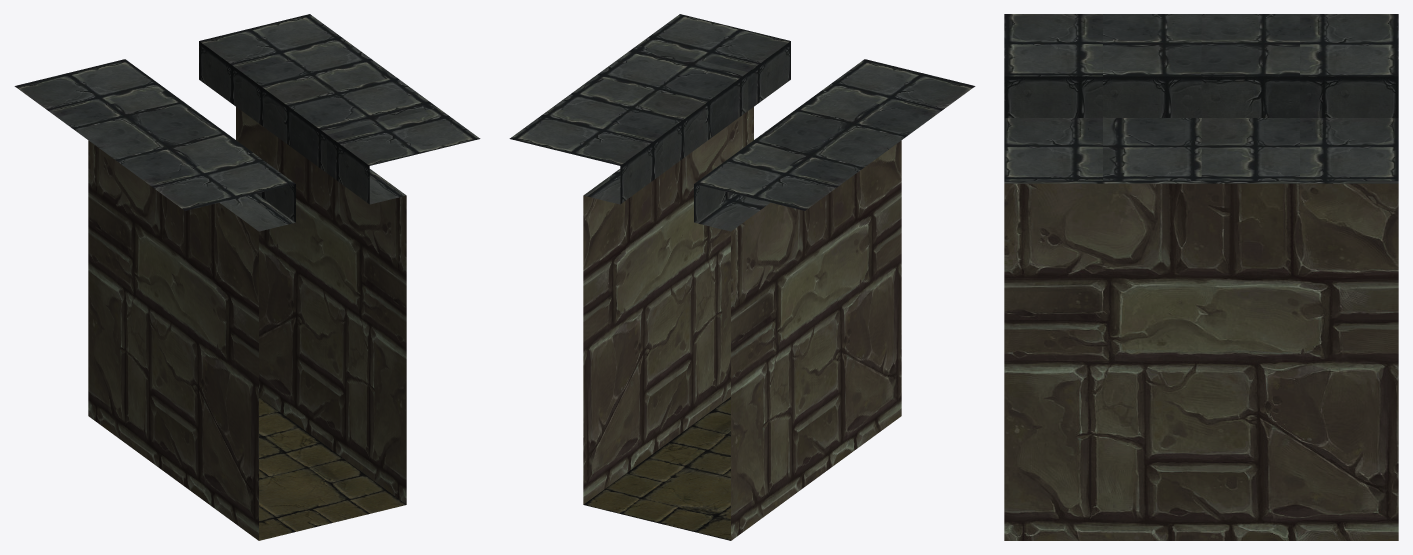
Rendered from tight_corridor_tile.FBX.
3 renders of one model, left to right at view 1: azimuth 30°, elevation 25°; view 2: azimuth 150°, elevation 25°; view 3: azimuth 270°, elevation 25°, orthographic. The views are drawn at different scales.
Visible parts, largest first — view 1: tight_path; view 2: tight_path; view 3: tight_path.
Part boxes in pixels (x1,y1,x2,y2): tight_path: [14, 14, 480, 540]; tight_path: [509, 14, 975, 540]; tight_path: [1004, 14, 1398, 540].
Bounding box in the file's own units: 40 × 45 × 40.
Materials: 1 (1 with a texture image).
